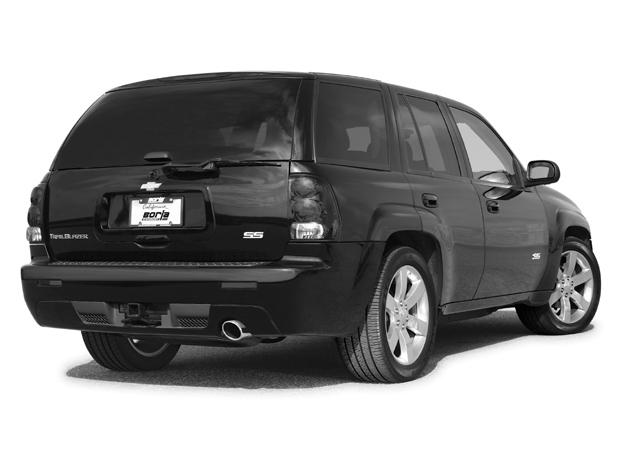car: (19, 68, 606, 384)
